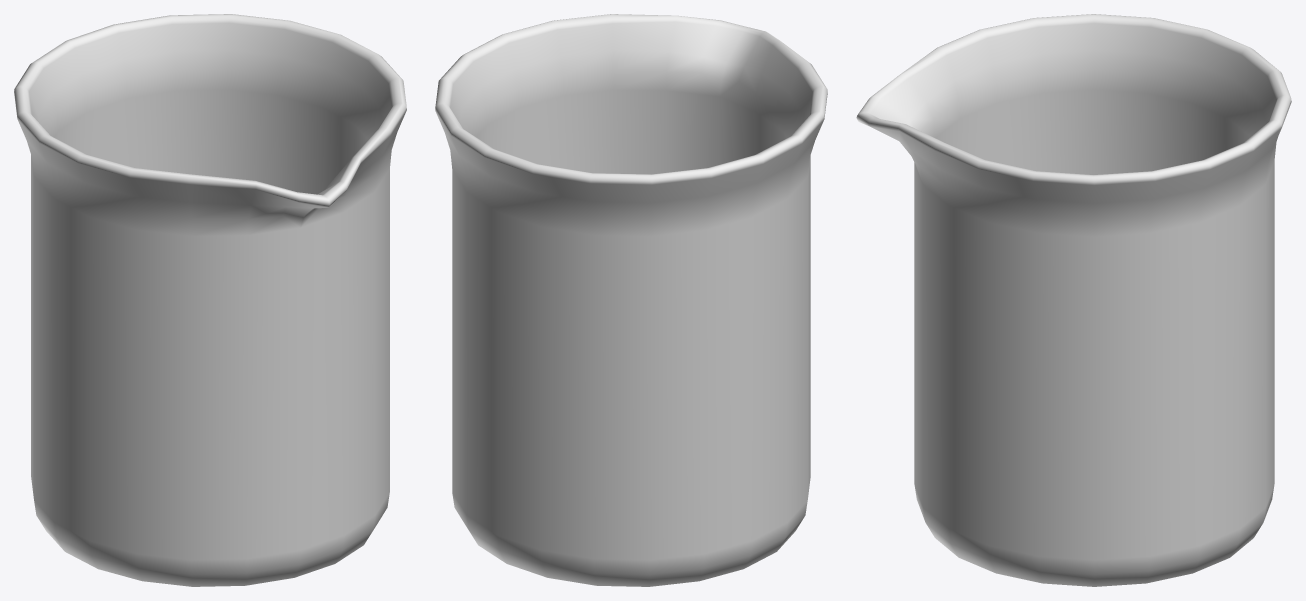
File: 250_Beaker.glb
The picture shows the model from 3 angles, left to right: view 1: azimuth 30°, elevation 25°; view 2: azimuth 150°, elevation 25°; view 3: azimuth 270°, elevation 25°; orthographic projection.
Visible parts, largest first — view 1: Bequer_250mL; view 2: Bequer_250mL; view 3: Bequer_250mL.
Part boxes in pixels (x1,y1,x2,y2): Bequer_250mL: [14, 14, 406, 586]; Bequer_250mL: [435, 14, 827, 586]; Bequer_250mL: [856, 14, 1291, 586].
Bounding box in the file's own units: 0.0973 × 0.1164 × 0.1074.
Materials: 1 (1 with a texture image).
